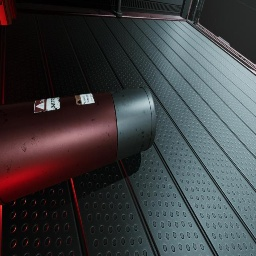NitrogenTank ,: (0, 87, 157, 206)
